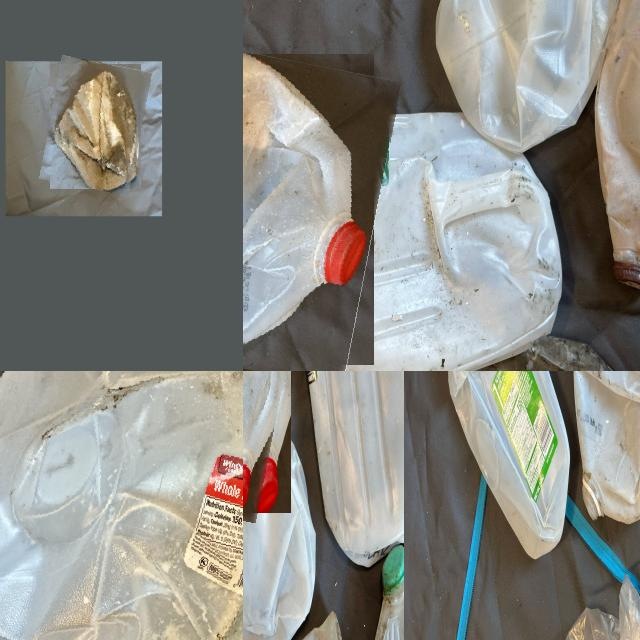milk-jug: (306, 106, 566, 371), (0, 371, 243, 640), (243, 41, 388, 371), (439, 0, 637, 156), (442, 371, 570, 567), (243, 371, 315, 640), (305, 371, 401, 550), (592, 0, 640, 305), (44, 59, 146, 193), (368, 551, 406, 640)
